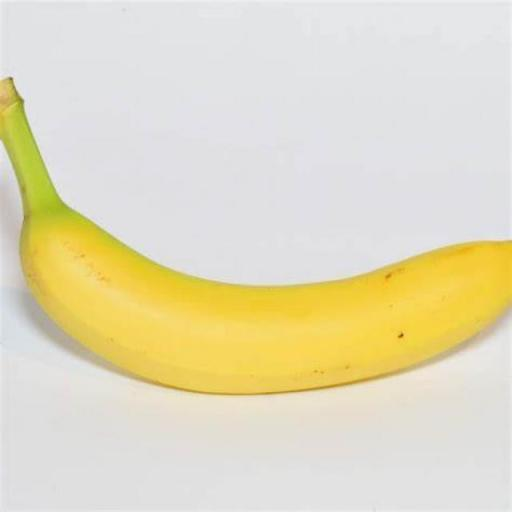fruit: (0, 79, 511, 391)
